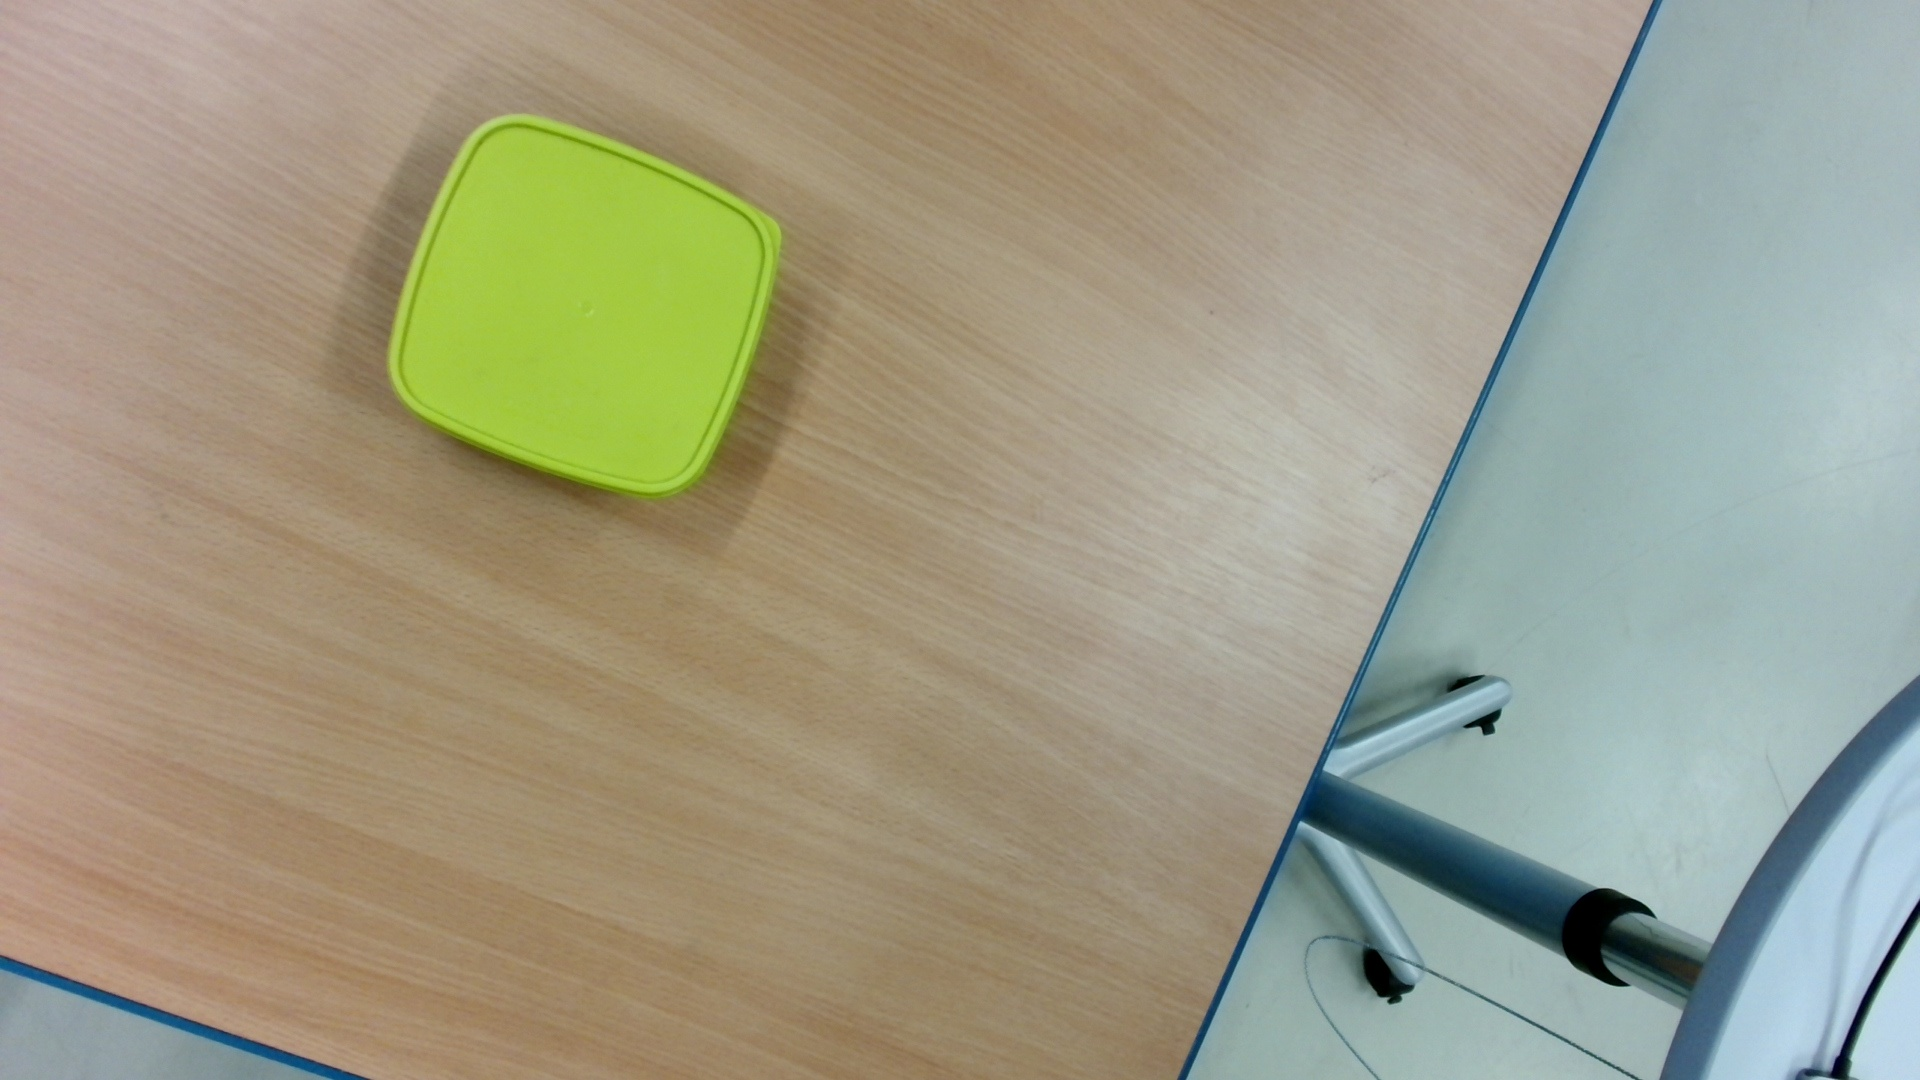Box: (380, 105, 790, 506)
